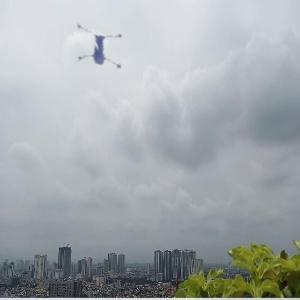drone: (51, 5, 138, 92)
